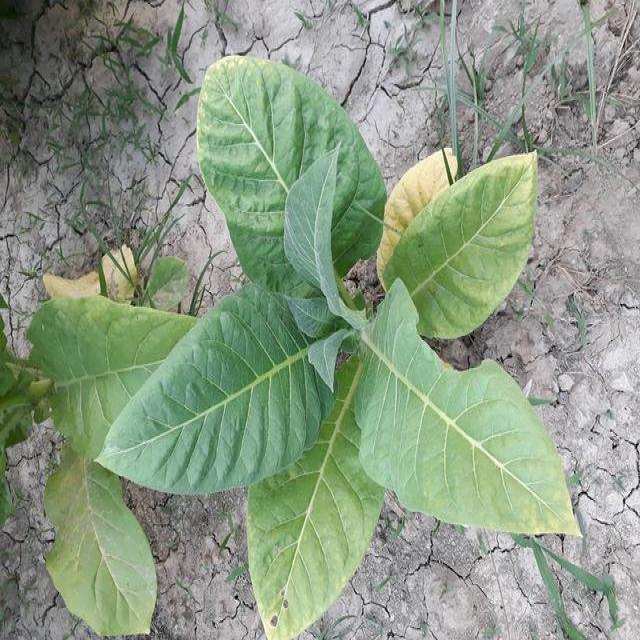crop: (114, 52, 566, 624), (0, 255, 192, 619)
